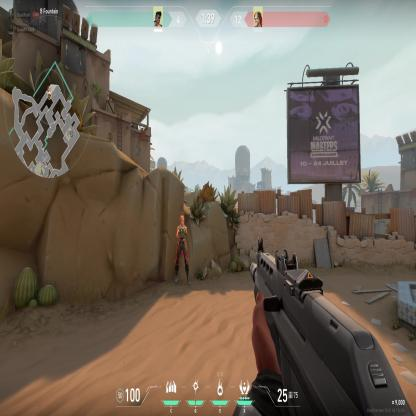enemy: (172, 214, 191, 287)
